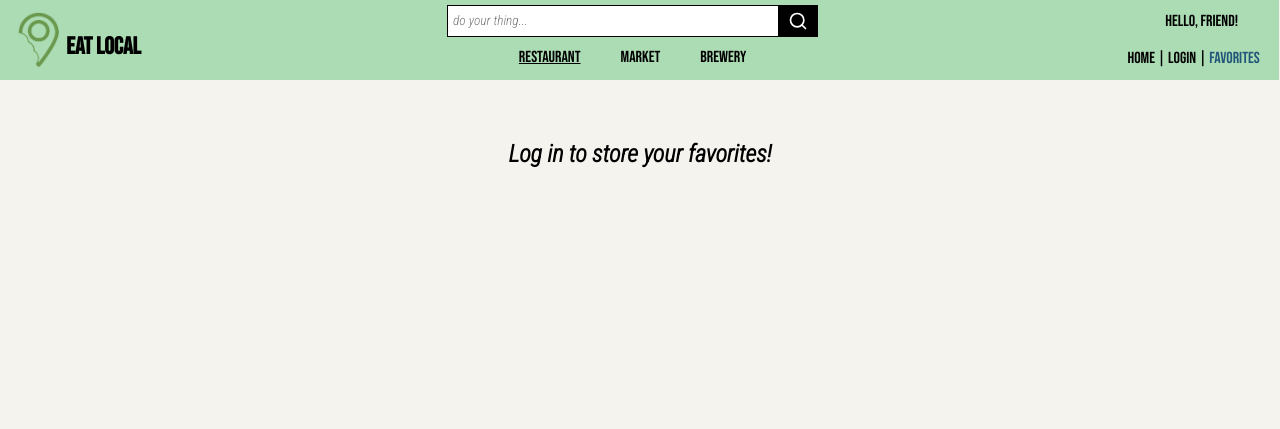
Favorites Page › should display the favorites of a logged in user and a search bar
Expected: the heading "Log in to store your favorites!" is shown, x1=508 y1=140 x2=772 y2=168
Click the text with class "login" at coordinates (1182, 59), box x1=1168 y1=49 x2=1196 y2=68
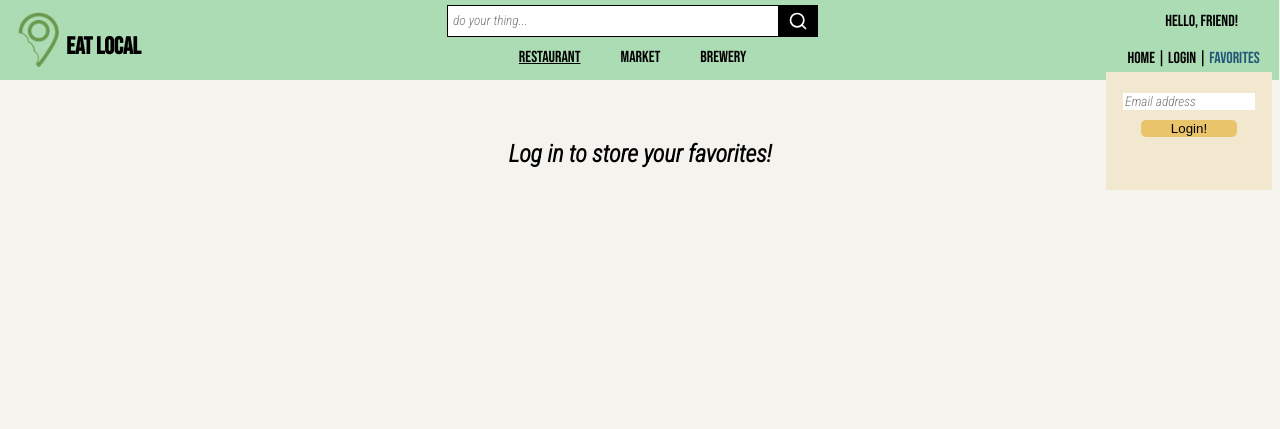
Type "example@email.com" into the field with class "input-email" at coordinates (1189, 102), box x1=1123 y1=93 x2=1255 y2=110
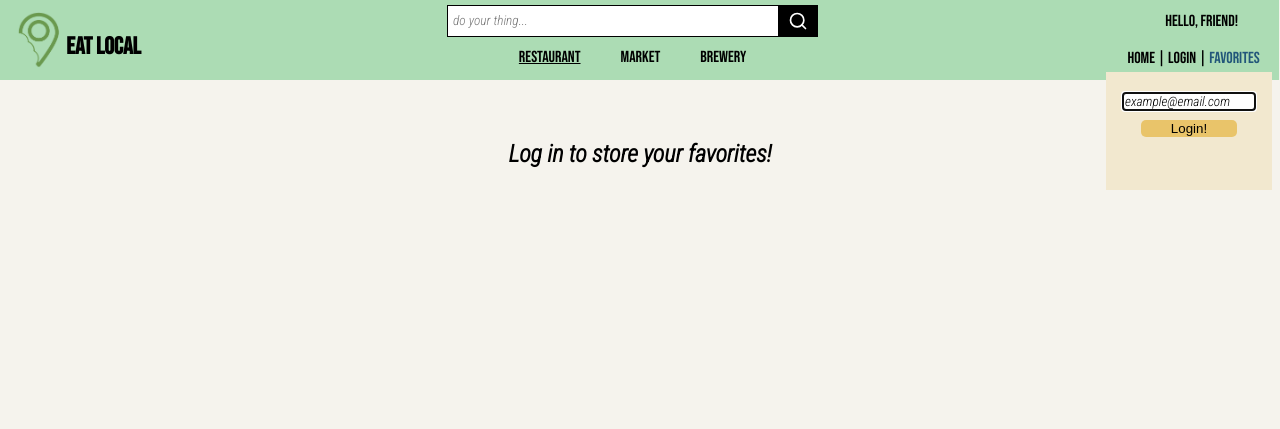
Click the button with class "login-btn" at coordinates (1189, 129), box x1=1141 y1=120 x2=1237 y2=137
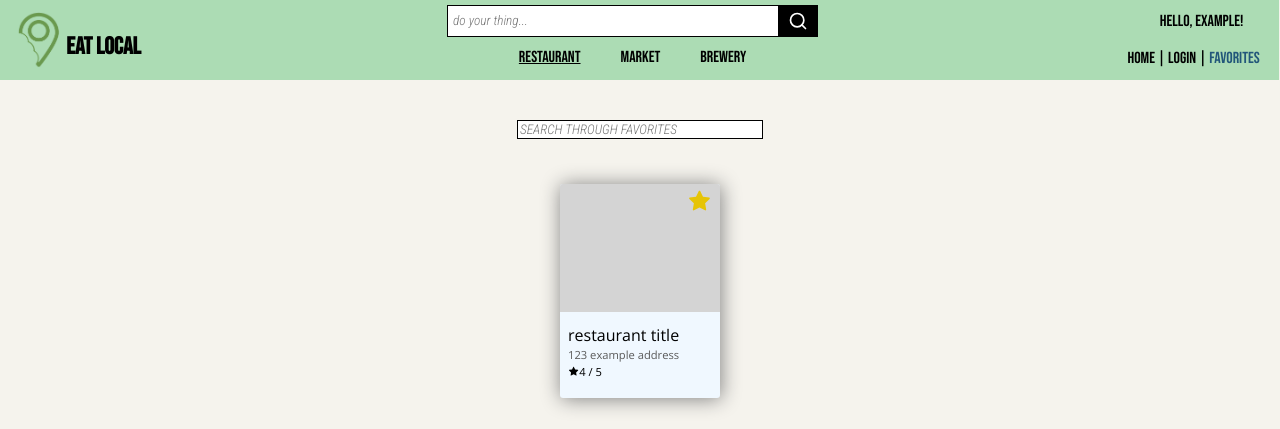
Expected: the heading with test id "fav-user-message" is gone
Expected: the field with test id "fav-searchbar" is shown, x1=517 y1=120 x2=763 y2=139
Expected: the text with test id "business-card" reads "restaurant title", x1=568 y1=324 x2=679 y2=346
